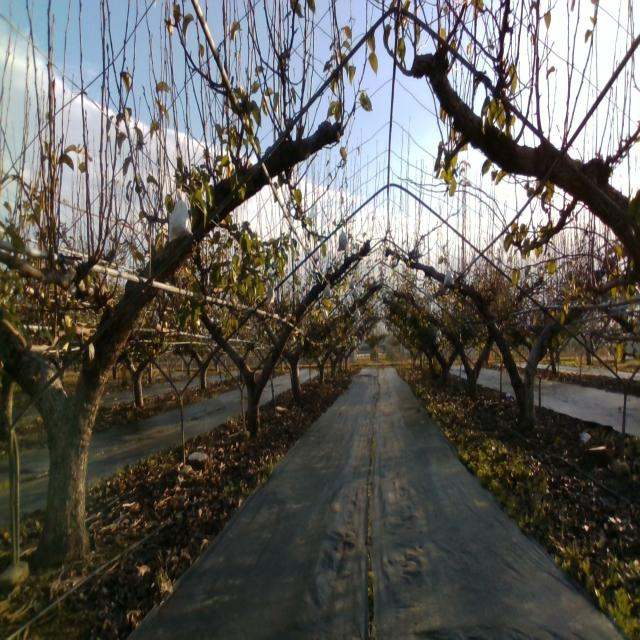pearbags: (167, 188, 193, 242), (337, 225, 349, 252), (442, 269, 455, 288)
